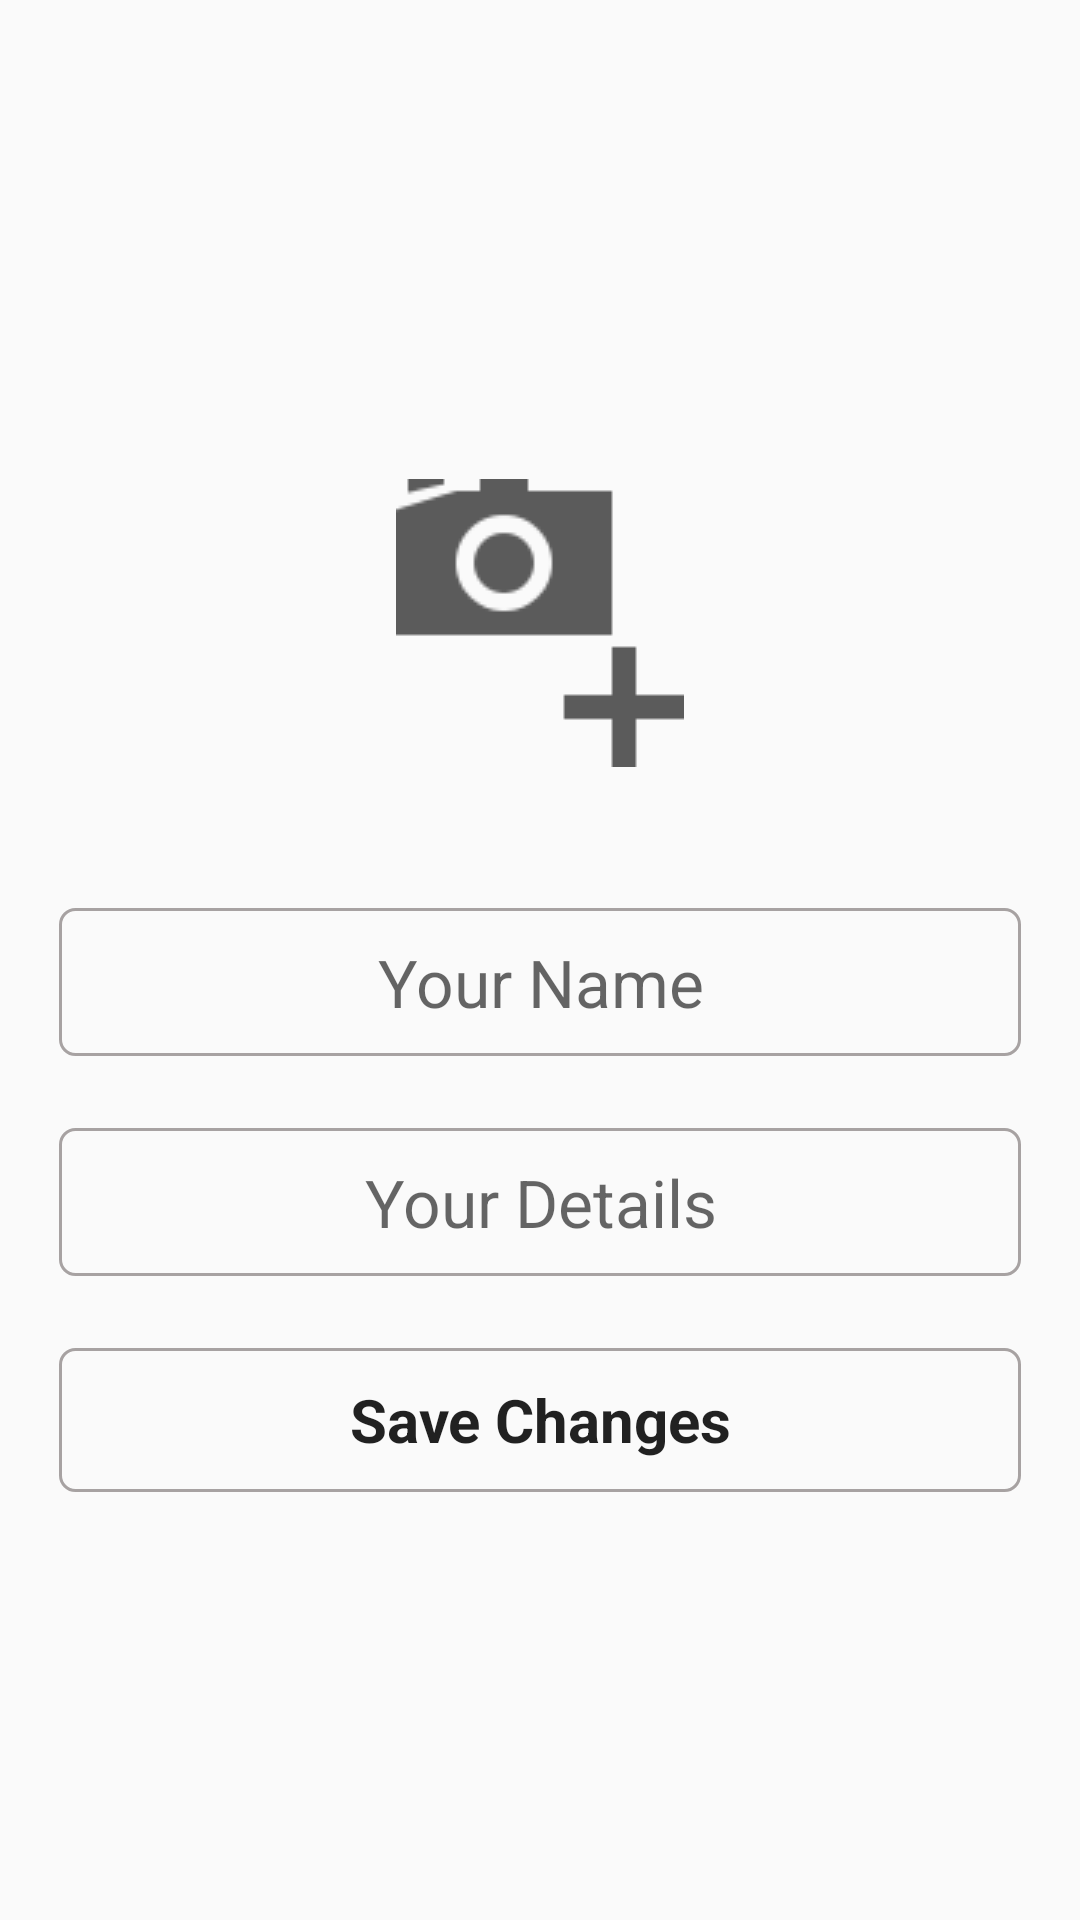

Screen size 1080 x 1920. Icon name, then its box in pixels as (x1, y1, x2, y2):
add profile: (396, 479, 684, 767)
